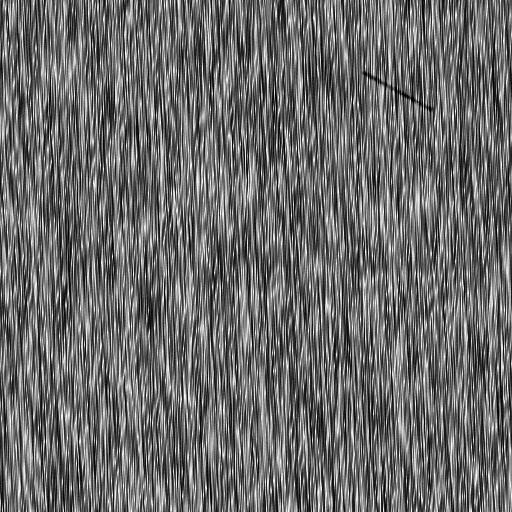scratch: (360, 63, 437, 120)
